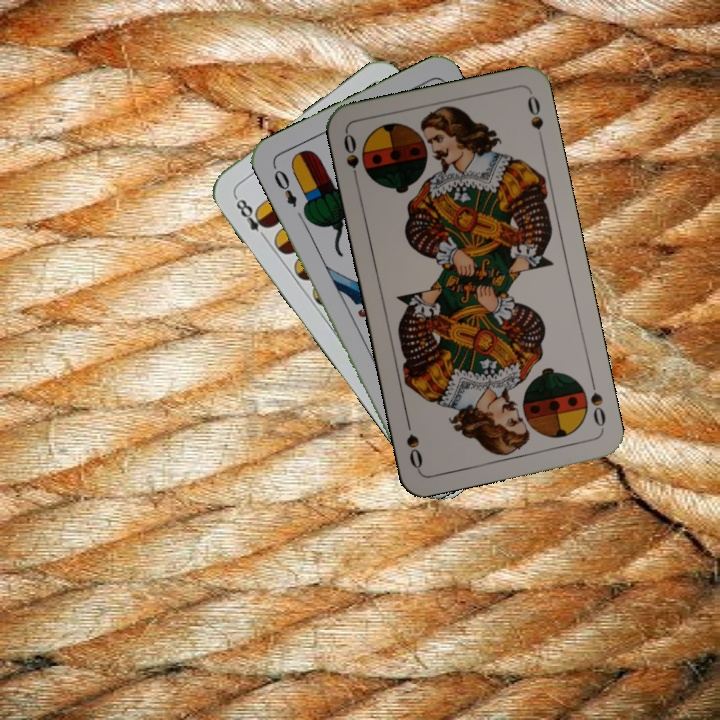E8: (230, 192, 273, 243)
EO: (268, 161, 300, 210)
SO: (339, 129, 362, 188), (586, 374, 608, 432)
